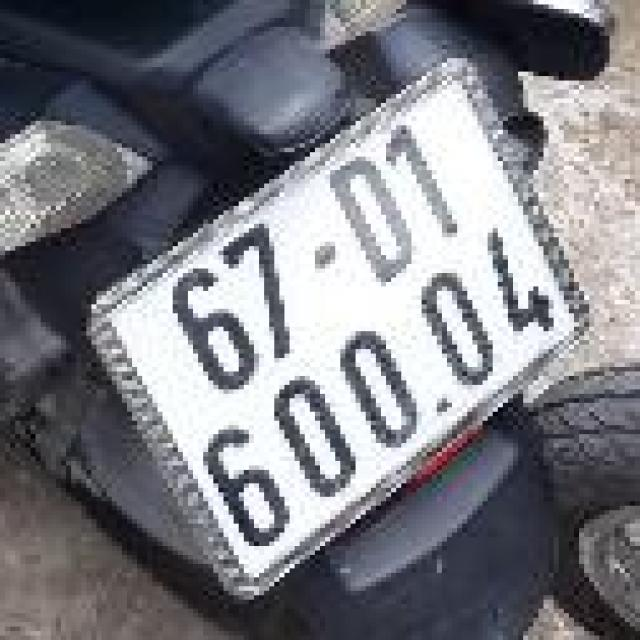0: (320, 317, 447, 479), (397, 258, 525, 406), (257, 366, 368, 512)
1: (377, 110, 478, 252)
4: (450, 217, 567, 353)
6: (178, 411, 319, 569), (153, 259, 273, 401)
7: (208, 207, 333, 366)
D: (299, 147, 439, 302)
